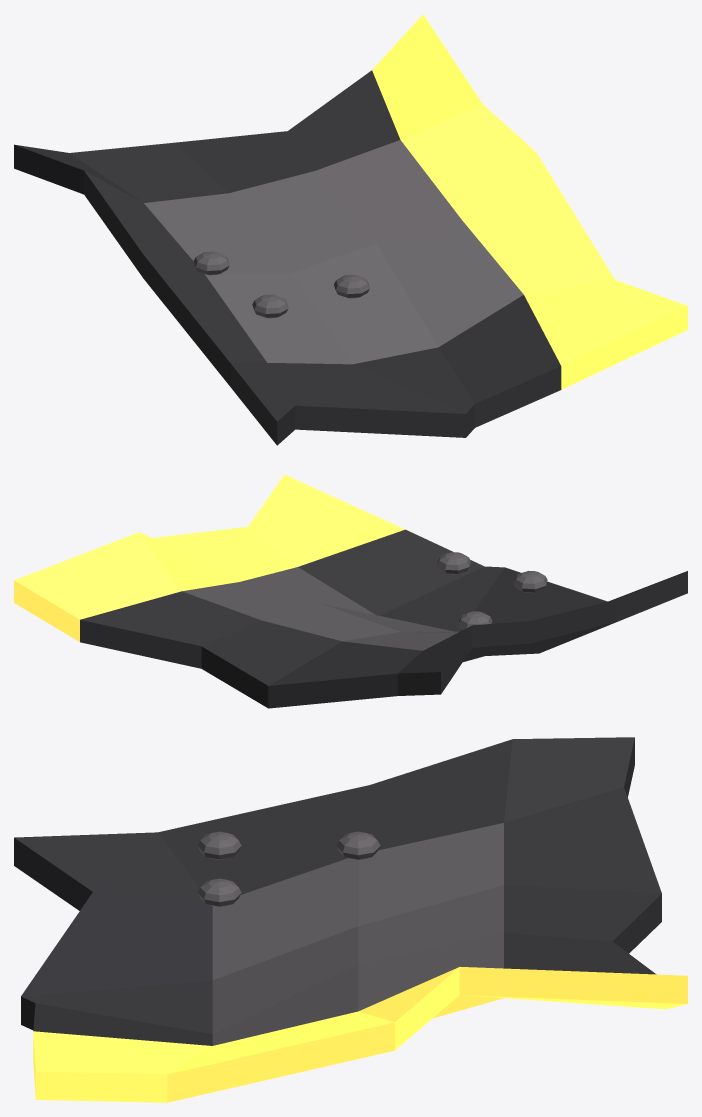
File: debris_plate.glb
The picture shows the model from 3 angles, top to bottom: view 1: azimuth 30°, elevation 25°; view 2: azimuth 150°, elevation 25°; view 3: azimuth 270°, elevation 25°; orthographic projection. The views are drawn at different scales.
Visible parts, largest first — view 1: DebrisPlate, Sphere, Sphere.003, Sphere.001; view 2: DebrisPlate, Sphere.003, Sphere, Sphere.001; view 3: DebrisPlate, Sphere, Sphere.003, Sphere.001.
Boxes of the visible parts, x1,y1,x2,y2 form: DebrisPlate: [14, 14, 687, 445]; Sphere: [252, 294, 288, 318]; Sphere.003: [334, 274, 369, 298]; Sphere.001: [193, 251, 229, 275]; DebrisPlate: [14, 474, 687, 708]; Sphere.003: [437, 552, 470, 574]; Sphere: [513, 570, 547, 593]; Sphere.001: [458, 611, 492, 629]; DebrisPlate: [14, 737, 687, 1102]; Sphere: [197, 831, 241, 859]; Sphere.003: [197, 878, 241, 906]; Sphere.001: [336, 831, 380, 859].
Bounding box in the file's own units: 0.8478 × 0.3086 × 0.9709.
